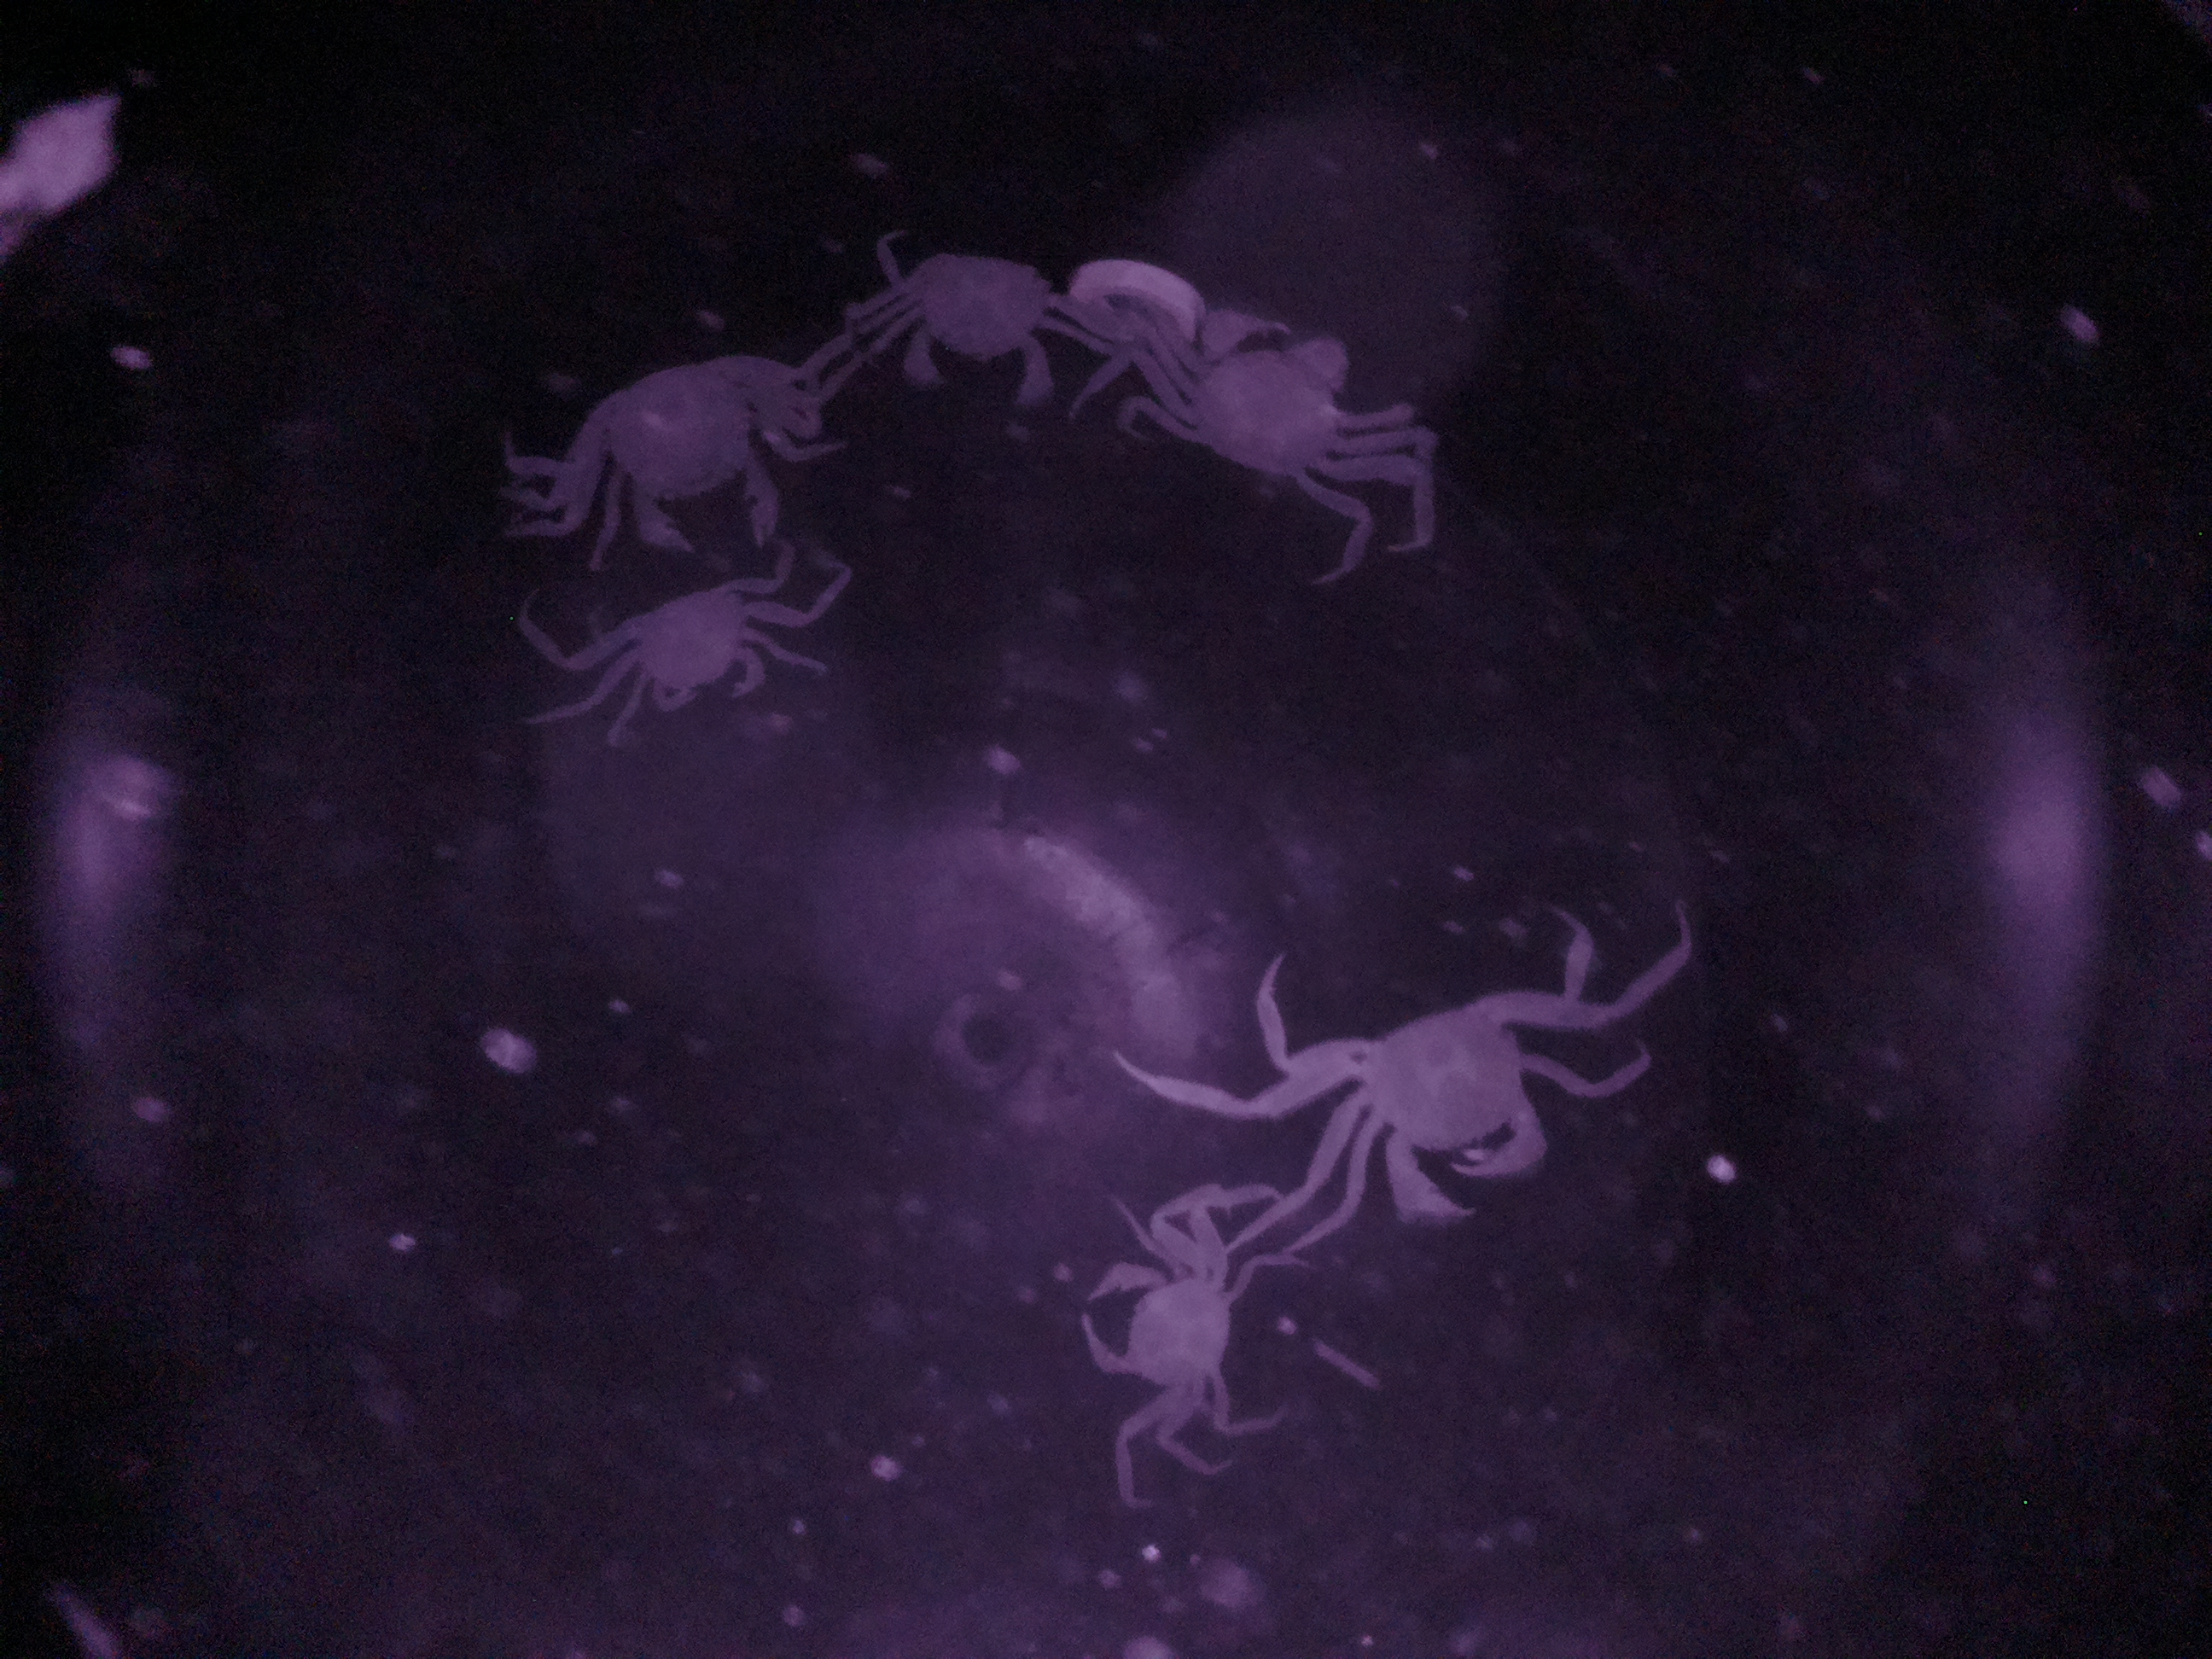Crab: (1317, 962, 1573, 1227), (571, 338, 808, 561), (1158, 312, 1383, 509), (873, 240, 1075, 429), (1076, 1230, 1247, 1422), (608, 573, 779, 725)
